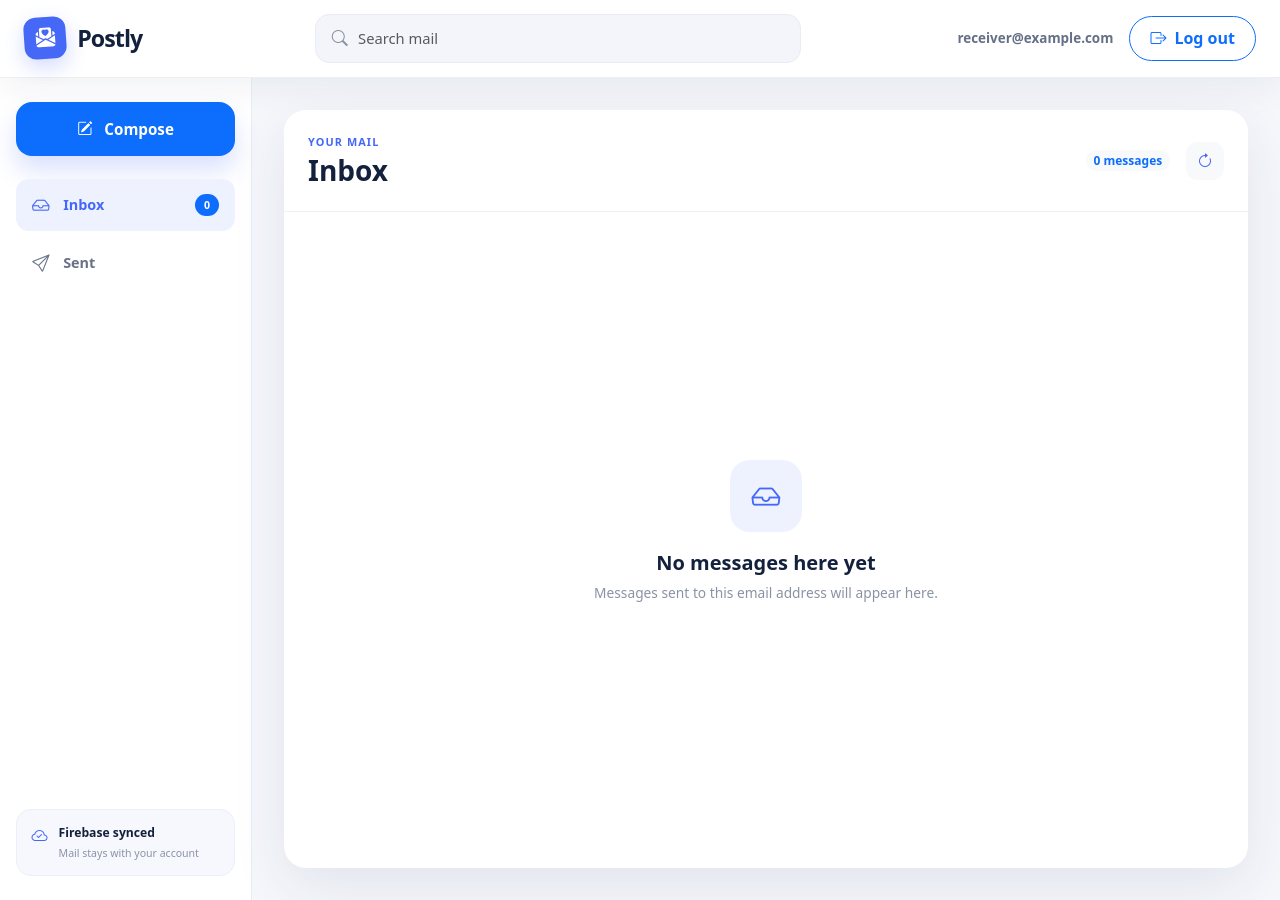
Test: Inbox component › refreshes the inbox with a new Firebase GET request
This screenshot has width=1280, height=900.
expect the heading "No messages here yet" is shown: met, box [656,551,876,575]
Click the button named "Refresh Inbox".
click(1205, 160)  # box [1186,142,1224,180]
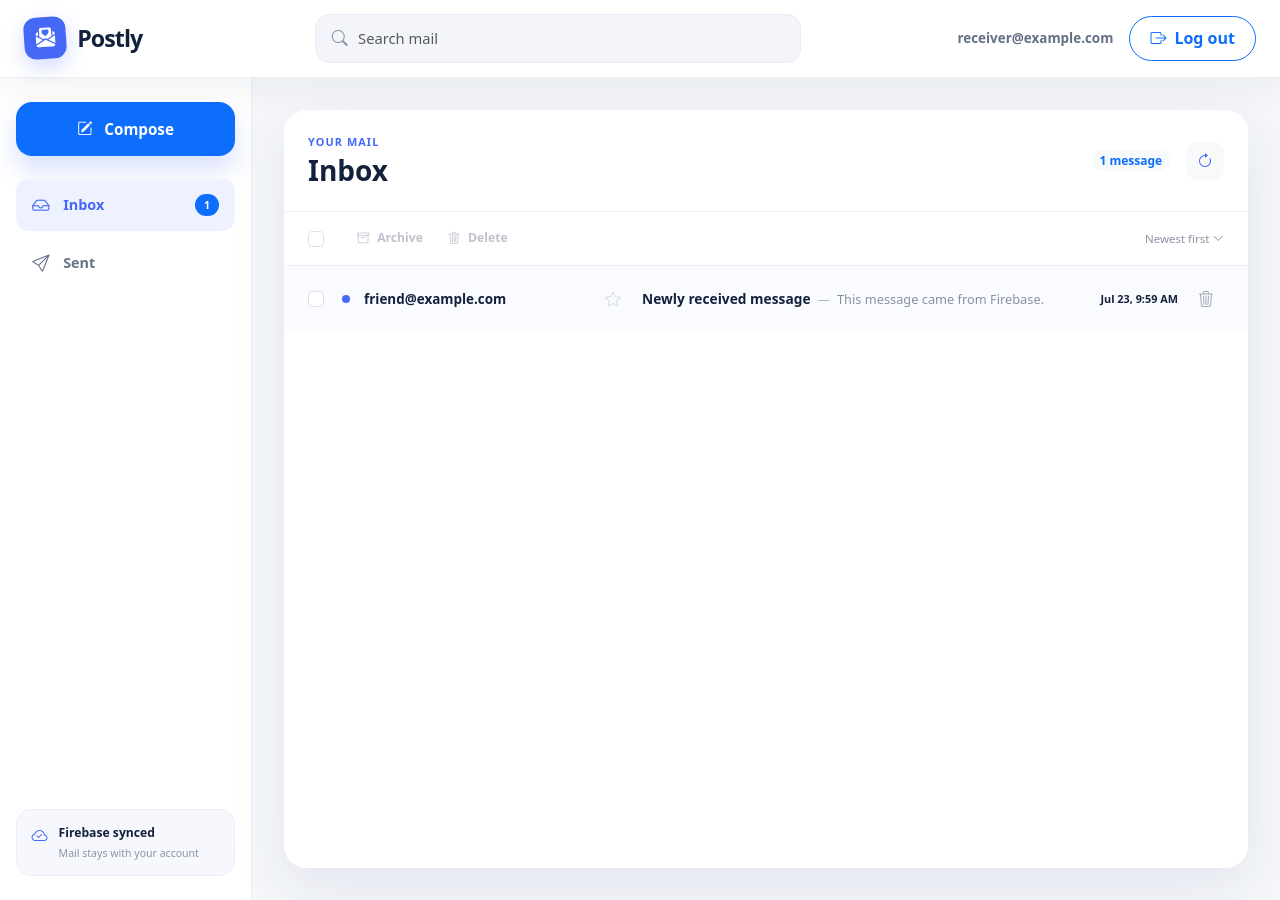
expect the heading "Newly received message" is shown: met, box [642,290,810,307]
